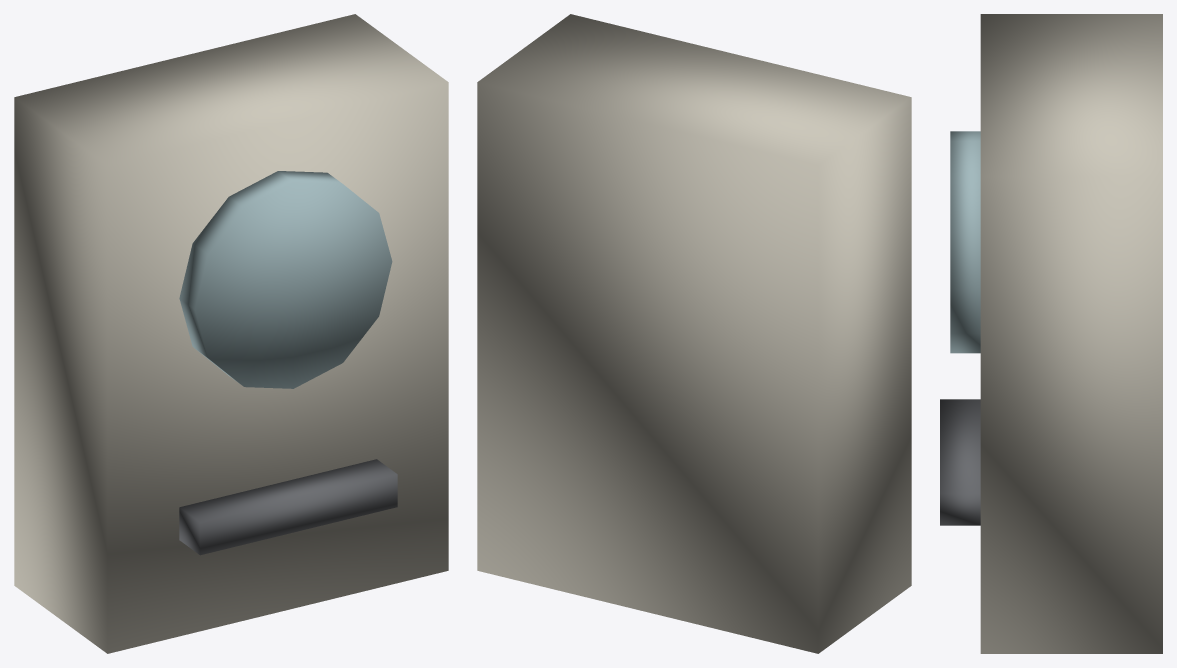
File: employee_punch_clock.glb
The picture shows the model from 3 angles, left to right: view 1: azimuth 30°, elevation 25°; view 2: azimuth 150°, elevation 25°; view 3: azimuth 270°, elevation 25°; orthographic projection. The views are drawn at different scales.
Visible parts, largest first — view 1: world; view 2: world; view 3: world.
Part boxes in pixels (x1,y1,x2,y2): world: (14, 14, 448, 653); world: (477, 14, 911, 653); world: (940, 14, 1162, 653).
Bounding box in the file's own units: 0.38 × 0.52 × 0.22.
